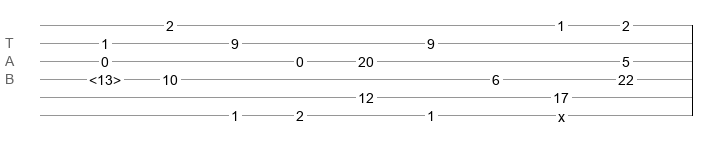0: (101, 54, 109, 64), (296, 54, 304, 64)
1: (101, 36, 109, 46), (231, 108, 239, 118), (427, 108, 435, 118), (557, 18, 565, 28)
10: (162, 72, 178, 82)
12: (358, 90, 374, 100)
17: (553, 90, 569, 100)
2: (166, 18, 174, 28), (296, 108, 304, 118), (622, 18, 630, 28)
20: (358, 54, 374, 64)
22: (618, 72, 634, 82)
5: (622, 54, 630, 64)
6: (492, 72, 500, 82)
9: (231, 36, 239, 46), (427, 36, 435, 46)
harmonic: (89, 72, 121, 82)
x: (558, 109, 565, 117)
